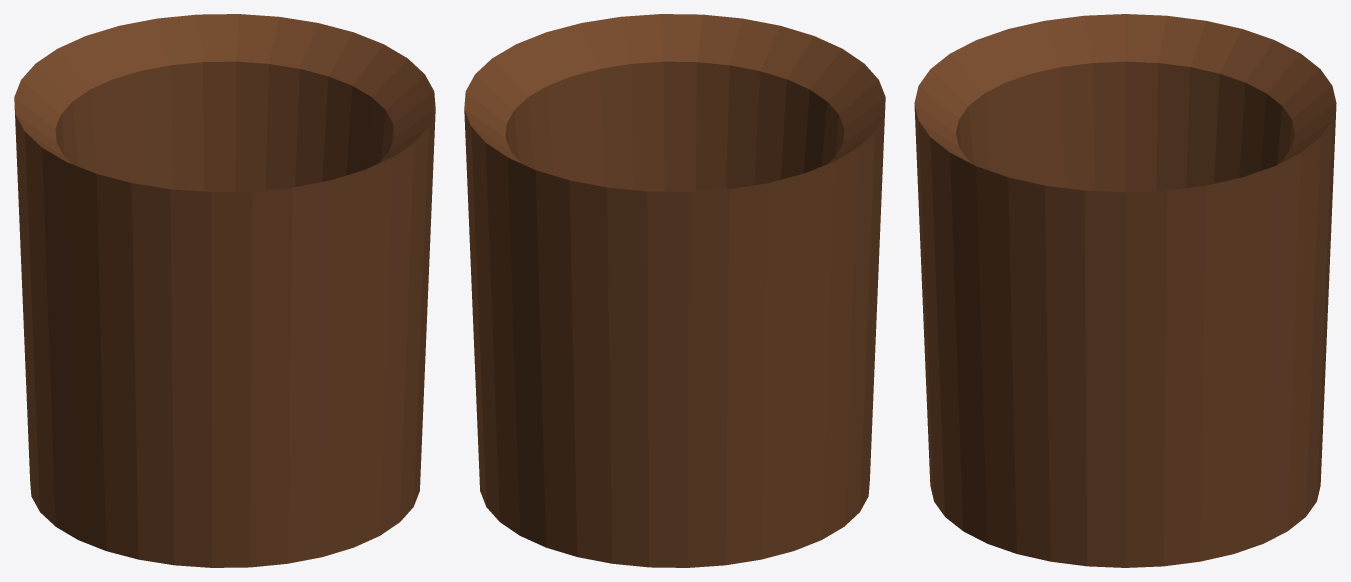
Rendered from uresVodor.fbx.
The picture shows the model from 3 angles, left to right: view 1: azimuth 30°, elevation 25°; view 2: azimuth 150°, elevation 25°; view 3: azimuth 270°, elevation 25°; orthographic projection.
Parts seen in each view (by area): view 1: Cylinder; view 2: Cylinder; view 3: Cylinder.
Part boxes in pixels (<box>): Cylinder: <box>14,14,435,567</box>; Cylinder: <box>464,14,885,567</box>; Cylinder: <box>914,14,1336,567</box>.
Size of the model in its own units: 200 by 200 by 200.
